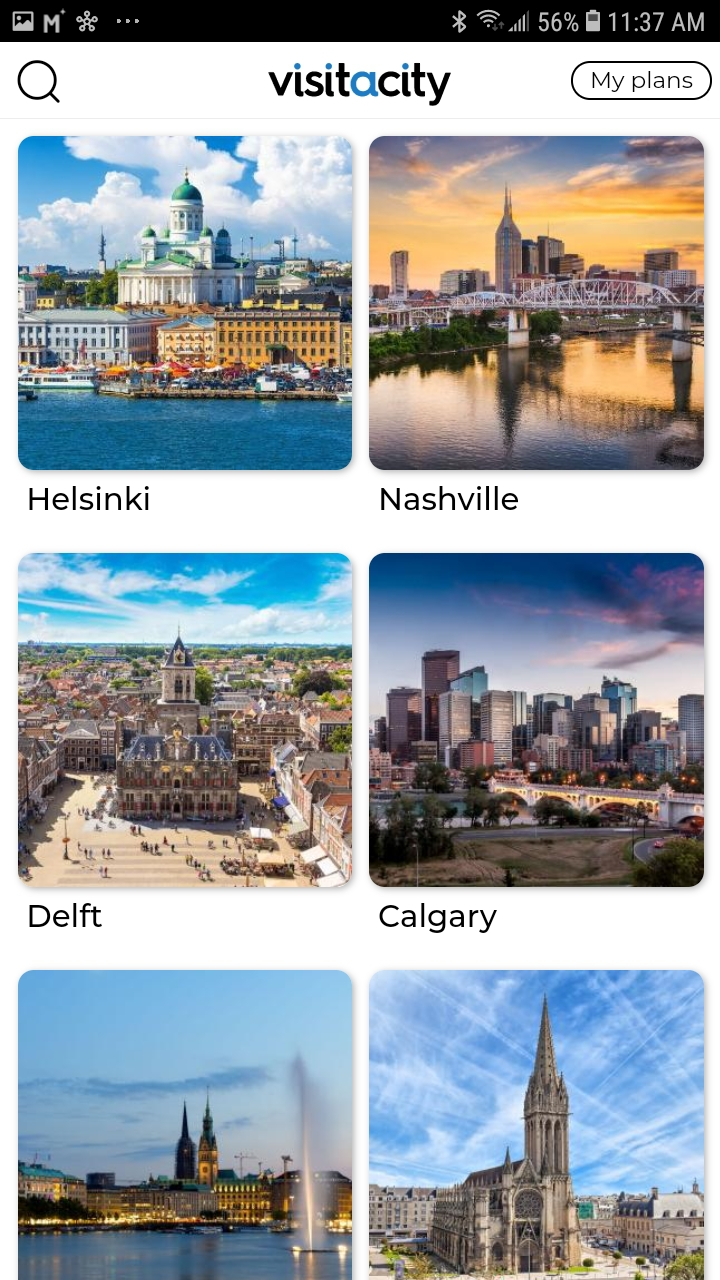Icon: (18, 61, 61, 104)
Image: (369, 136, 704, 471), (19, 553, 353, 888), (369, 553, 704, 887), (19, 136, 353, 471), (369, 970, 704, 1280), (19, 971, 352, 1280), (268, 63, 452, 107)
Text: (379, 902, 498, 934), (381, 487, 519, 512), (29, 485, 150, 511), (29, 902, 103, 928)
TextButton: (571, 62, 713, 102)
UpperTaskBar: (1, 1, 720, 43)
